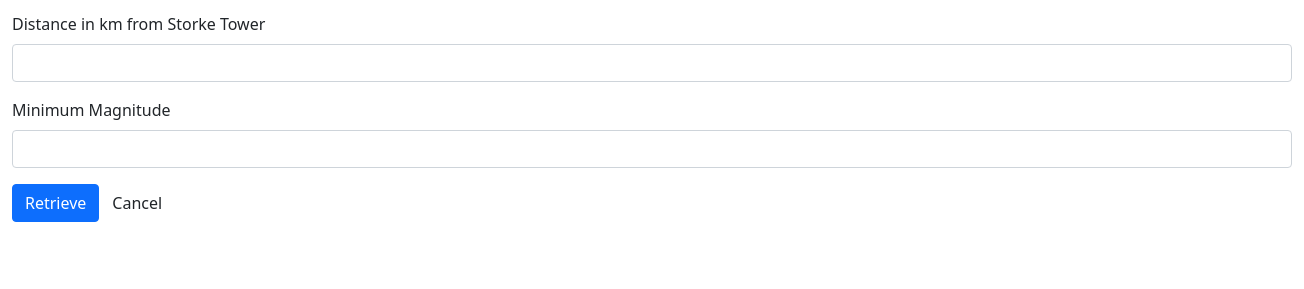
Test: EarthquakesForm tests › Correct Error messages on missing input
Click the button with test id "EarthquakesForm-submit".
click(56, 203)  # box [12,184,99,222]
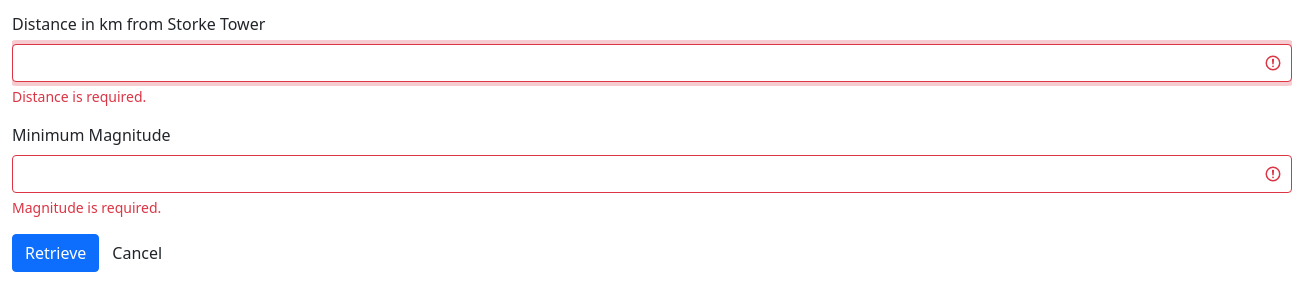
Check: the text "Distance is required." is shown, box [12,87,146,106]
Check: the text "Magnitude is required." is shown, box [12,198,161,217]
